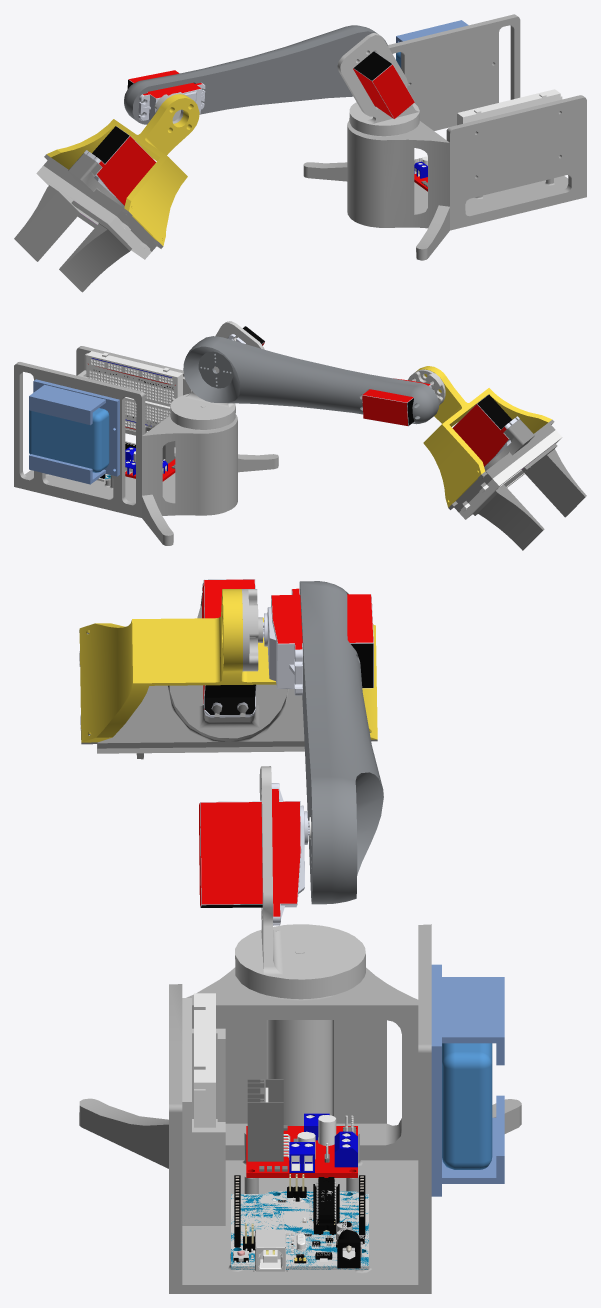
The model's file is robotic-arm.glb.
The picture shows the model from 3 angles, top to bottom: view 1: azimuth 30°, elevation 25°; view 2: azimuth 150°, elevation 25°; view 3: azimuth 270°, elevation 25°; orthographic projection. The views are drawn at different scales.
Parts seen in each view (by area): view 1: Half Breadboard; view 2: Half Breadboard; view 3: Half Breadboard.
Part boxes in pixels (x1,y1,x2,y2): Half Breadboard: [14, 14, 586, 292]; Half Breadboard: [14, 321, 586, 550]; Half Breadboard: [79, 579, 521, 1293].
Size of the model in its own units: 0.4523 by 0.1514 by 0.1713.
Materials: 1 (1 with a texture image).
